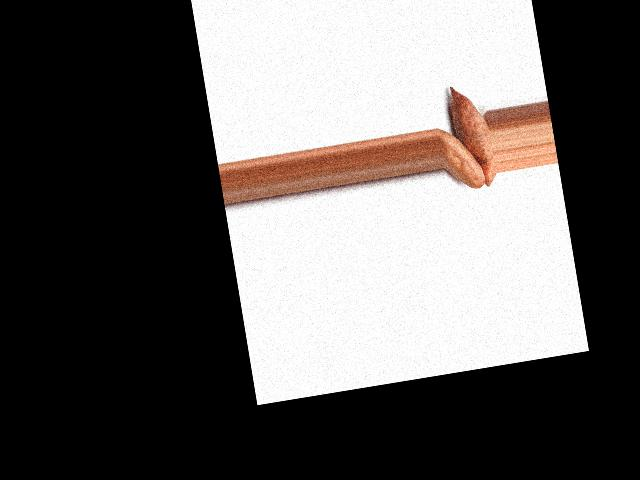sweet_potato: (436, 118, 485, 193)
